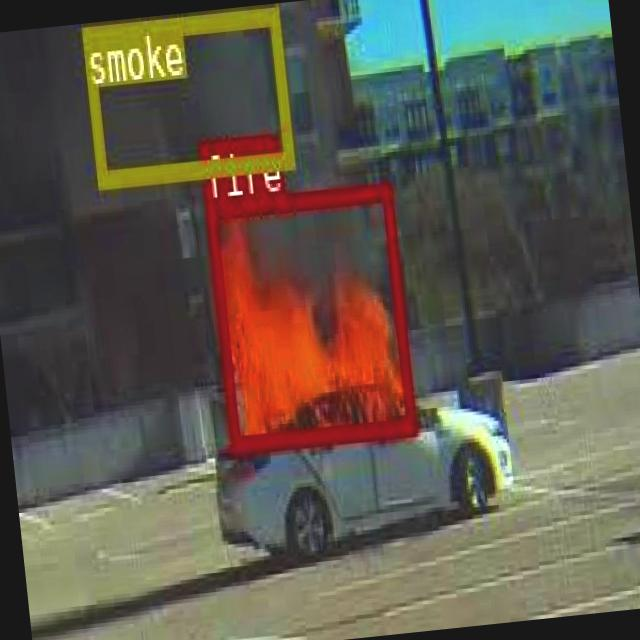fire: (203, 179, 413, 448)
smoke: (81, 6, 292, 186)
